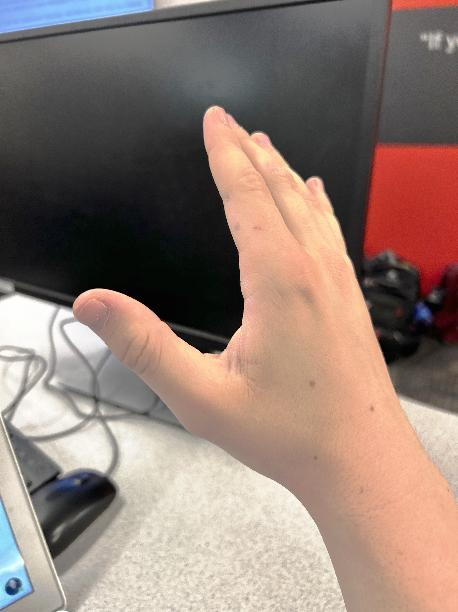Paper: (52, 52, 438, 524)
